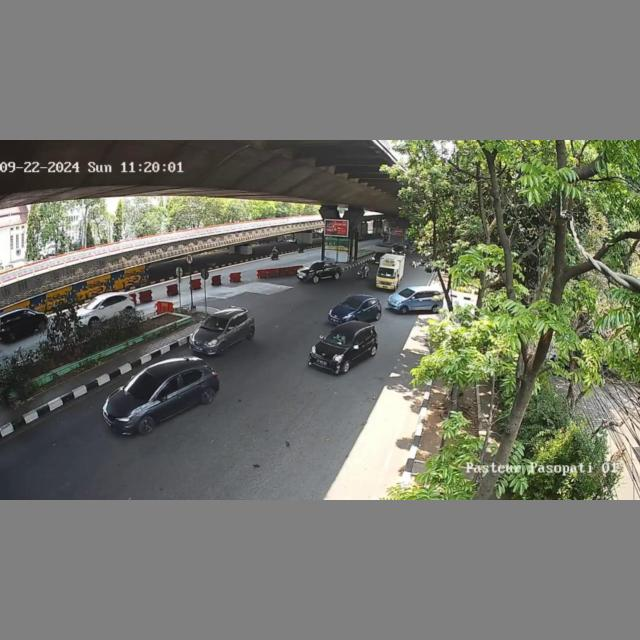windshield: (122, 370, 164, 402), (324, 328, 354, 348), (201, 314, 228, 333), (338, 297, 362, 310), (398, 286, 414, 300), (377, 268, 398, 278)
